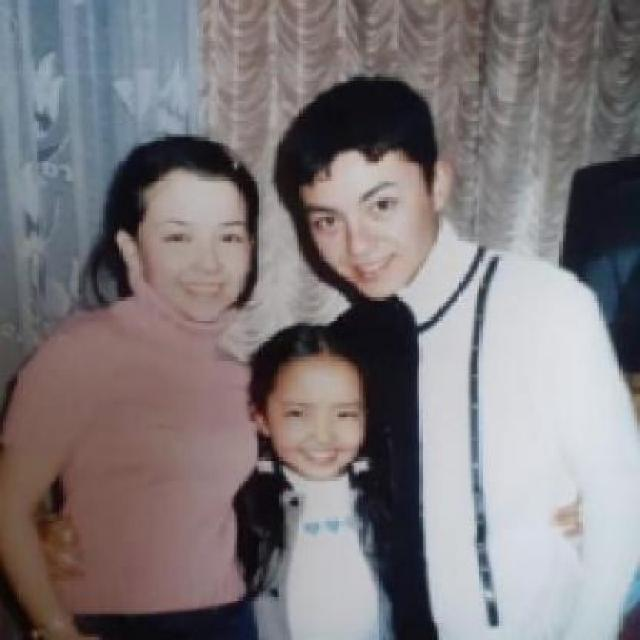child: (232, 323, 392, 637)
